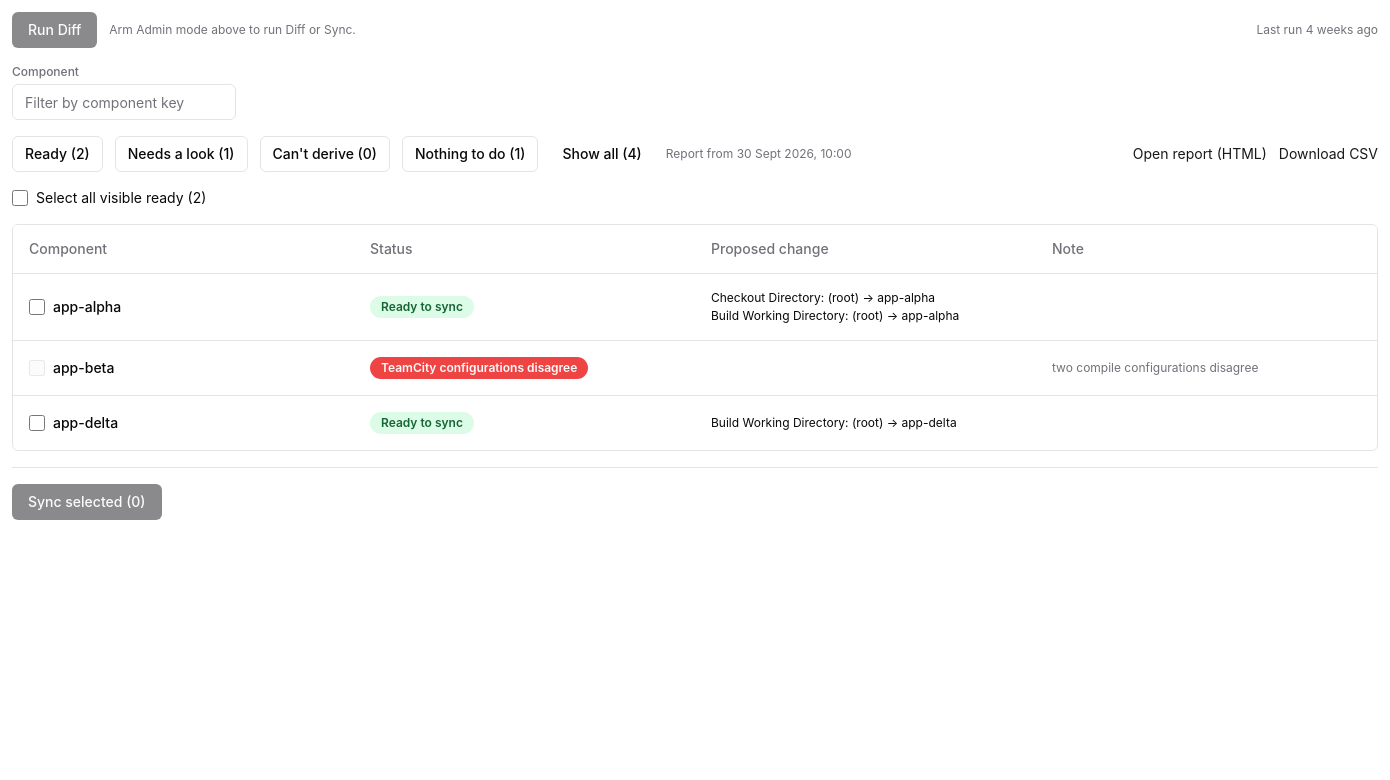
Test: TeamCityCheckoutLayoutPanel — summary bar › defaults to Ready + Needs a look; "Show all (N)" reveals the rest
Expected: the text "app-alpha" is shown, [29, 298, 121, 314]
Expected: the text "app-beta" is shown, [29, 358, 114, 376]
Click the button "Show all (4)" at [602, 154], box [550, 136, 654, 172]
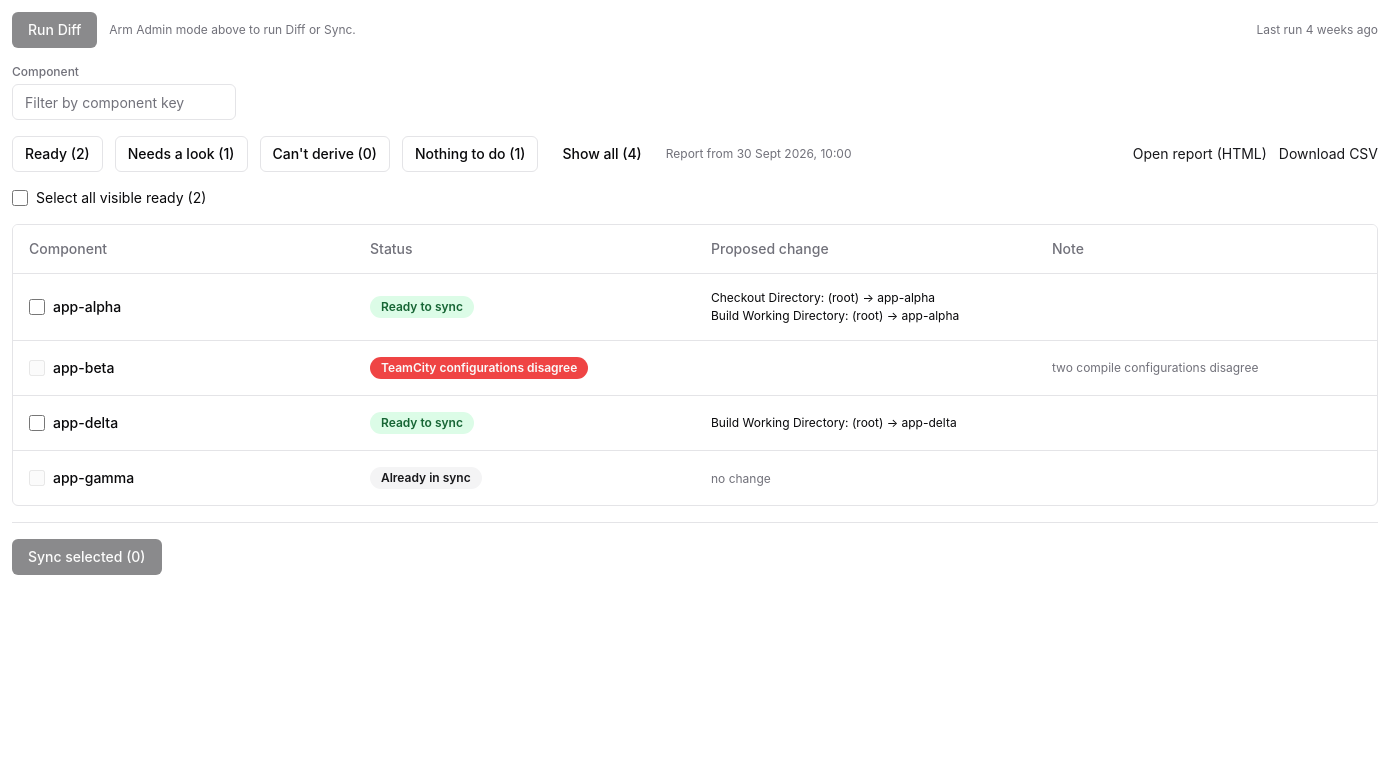
Expected: the text "app-gamma" is shown, [29, 468, 134, 486]
